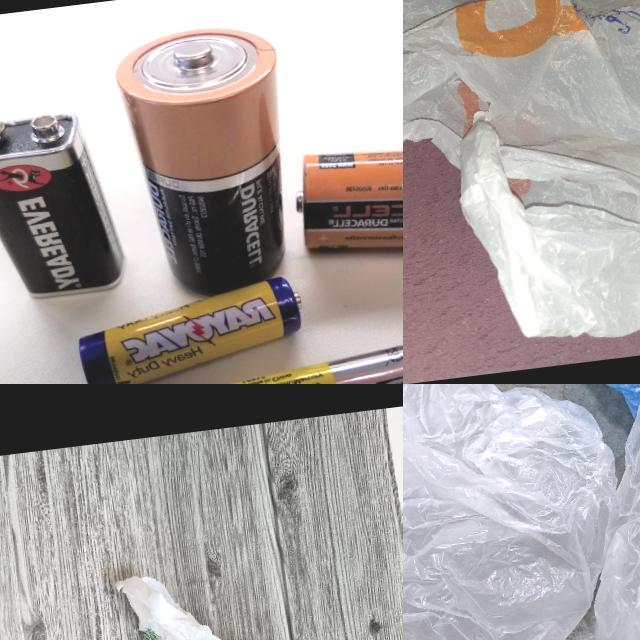bateria: (112, 17, 306, 300), (71, 272, 312, 384), (0, 103, 128, 307), (288, 130, 403, 271), (218, 336, 403, 384)
sacola plástica: (403, 0, 640, 383), (403, 384, 640, 640), (525, 384, 640, 640), (113, 549, 392, 640)
